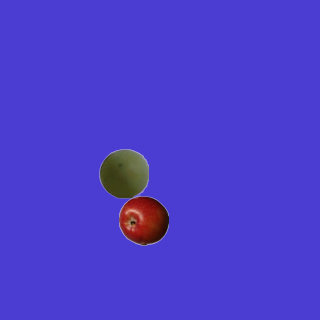Apple Braeburn: (118, 195, 168, 245)
Grape White 4: (98, 148, 148, 198)
